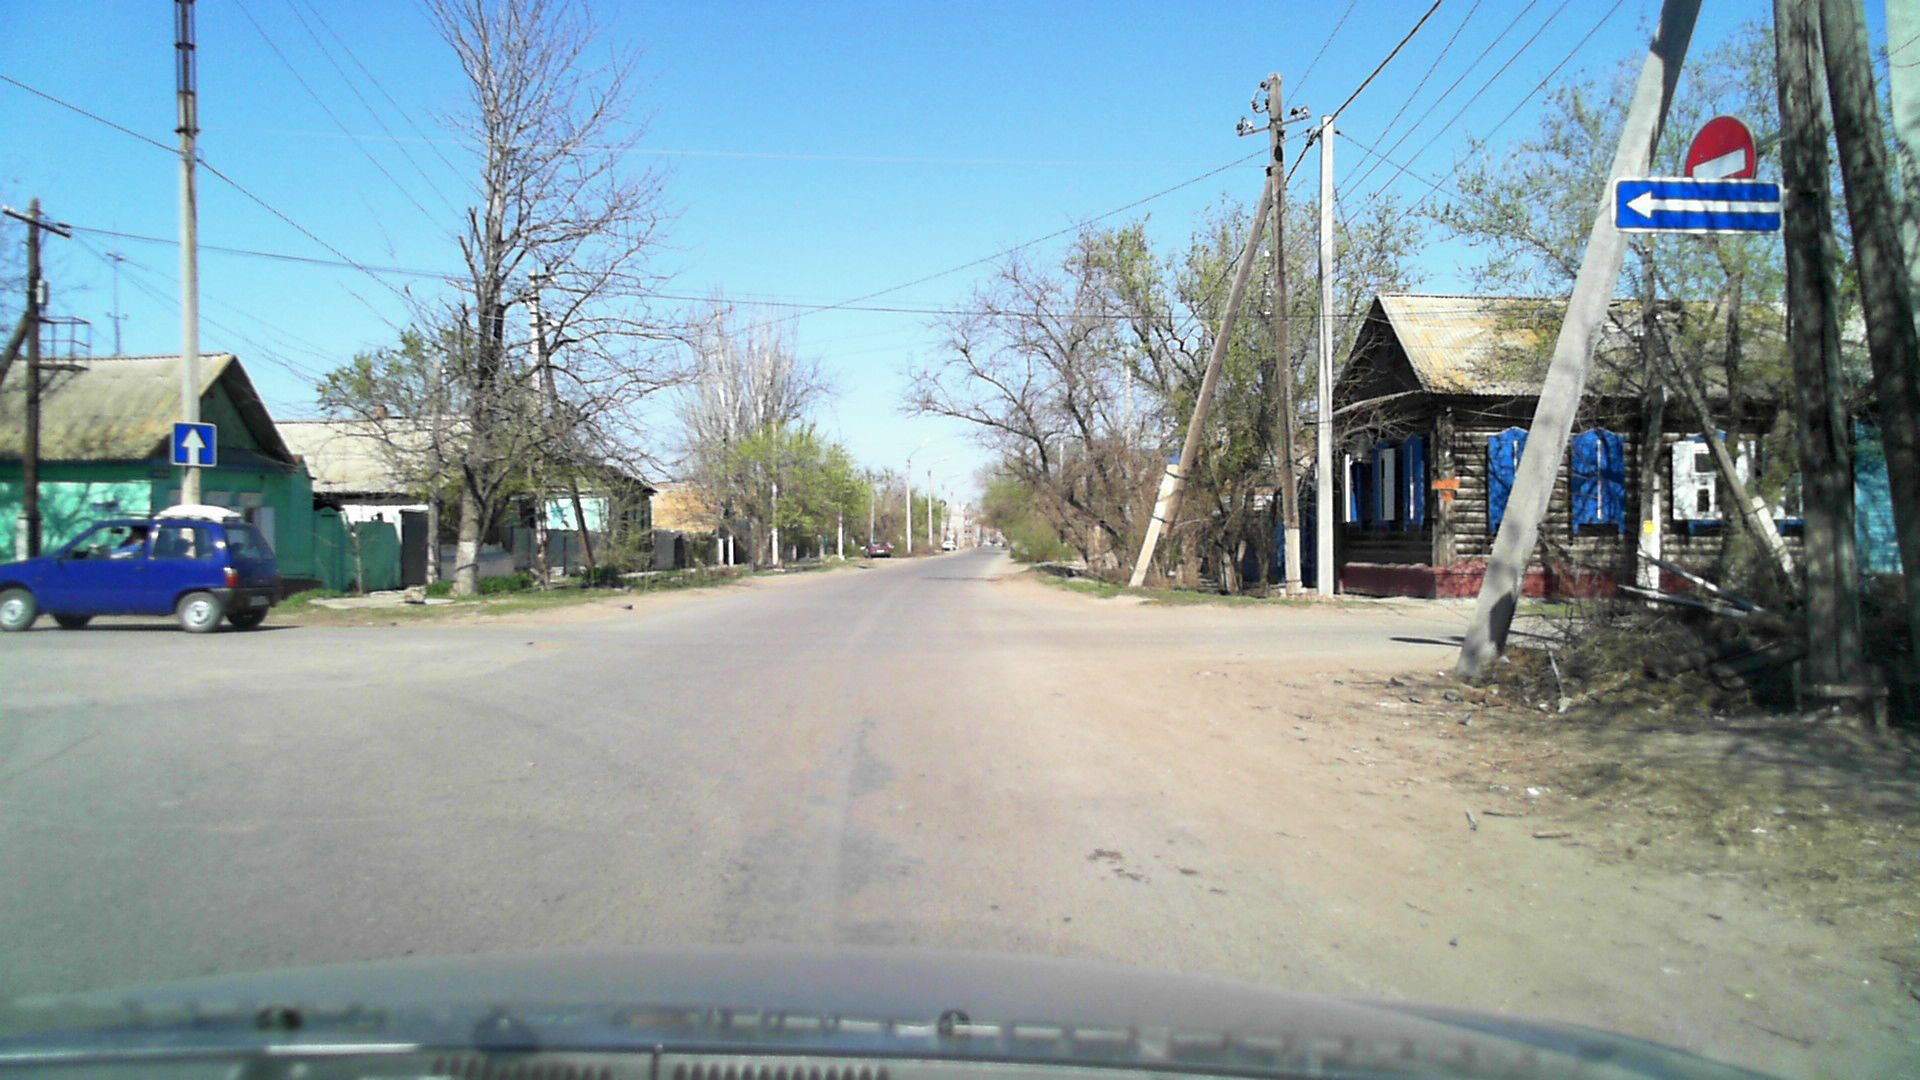One-Way Traffic: (1611, 177, 1784, 235)
